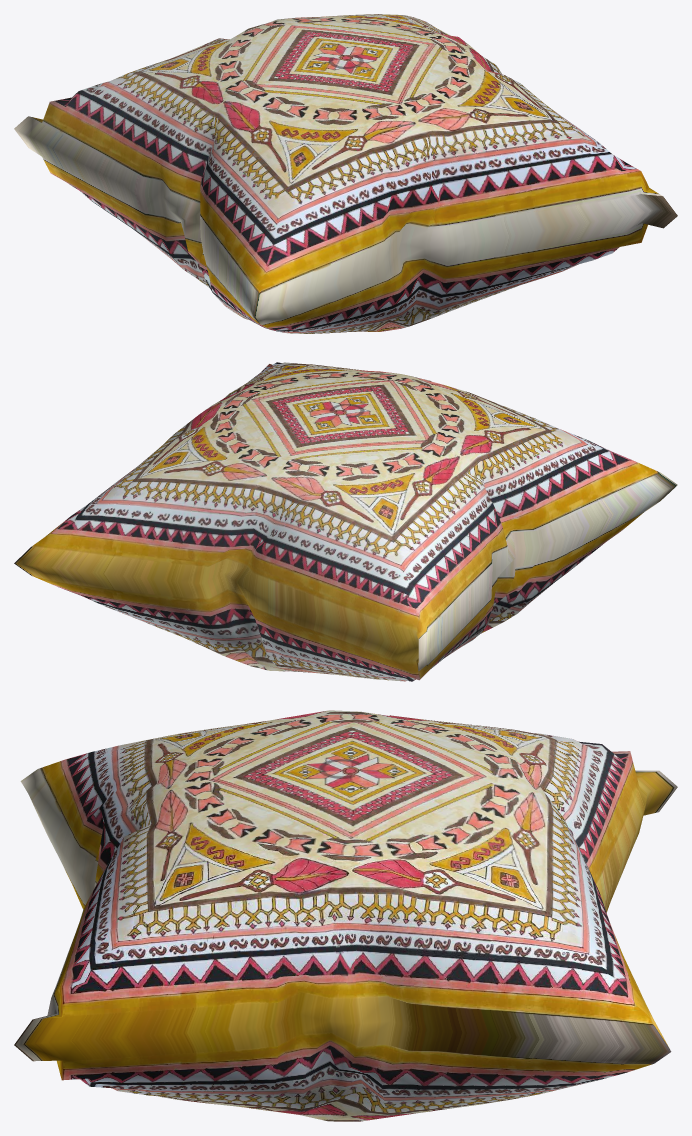
The model's file is 傣锦抱枕.glb.
3 renders of one model, top to bottom at view 1: azimuth 30°, elevation 25°; view 2: azimuth 150°, elevation 25°; view 3: azimuth 270°, elevation 25°, orthographic. The views are drawn at different scales.
Visible parts, largest first — view 1: 18e84d7c436e904c0b2f4ab7447465d1; view 2: 18e84d7c436e904c0b2f4ab7447465d1; view 3: 18e84d7c436e904c0b2f4ab7447465d1.
Boxes of the visible parts, bbox=[...] form: 18e84d7c436e904c0b2f4ab7447465d1: bbox=[14, 14, 677, 333]; 18e84d7c436e904c0b2f4ab7447465d1: bbox=[14, 362, 677, 681]; 18e84d7c436e904c0b2f4ab7447465d1: bbox=[14, 710, 677, 1121].
Bounding box in the file's own units: 0.9793 × 0.4996 × 1.02.
Materials: 1 (1 with a texture image).
